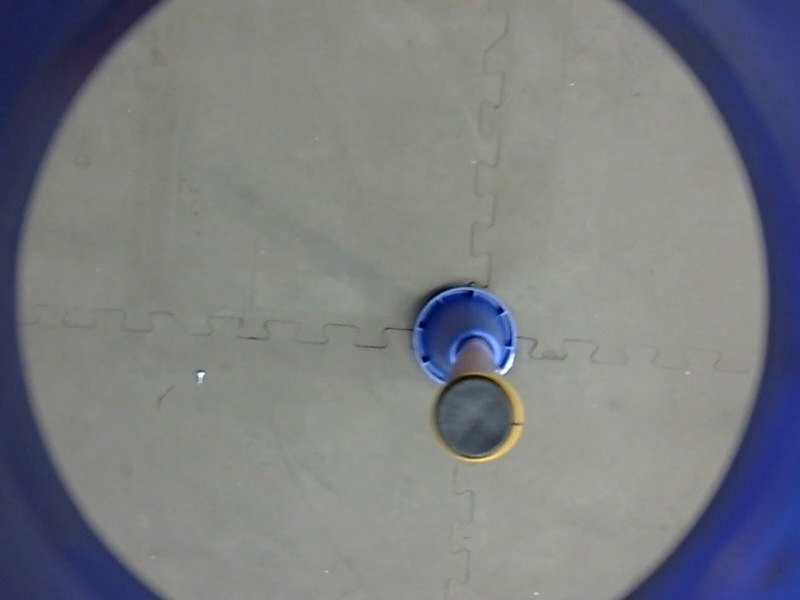tip: (425, 368, 530, 468)
